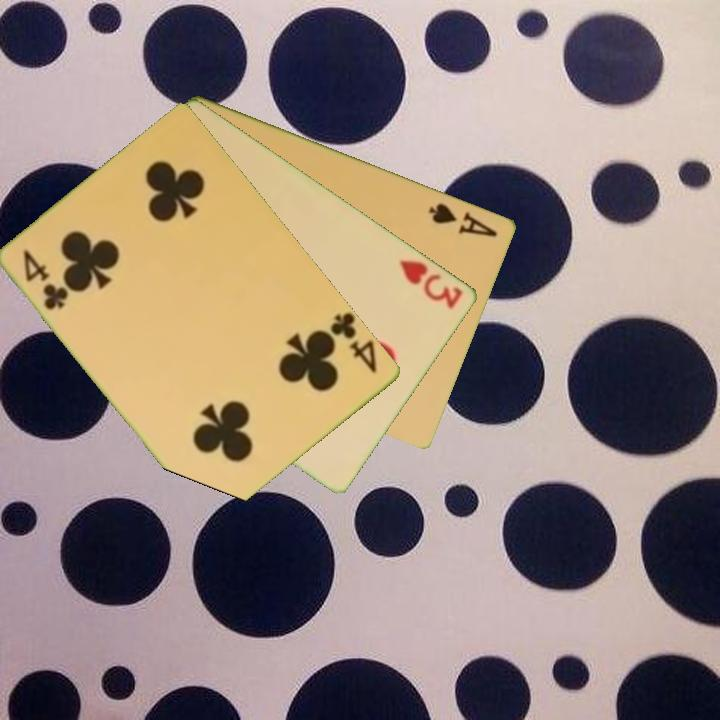3h: (396, 256, 466, 312)
4c: (327, 309, 381, 376), (20, 246, 72, 313)
As: (425, 199, 501, 240)
